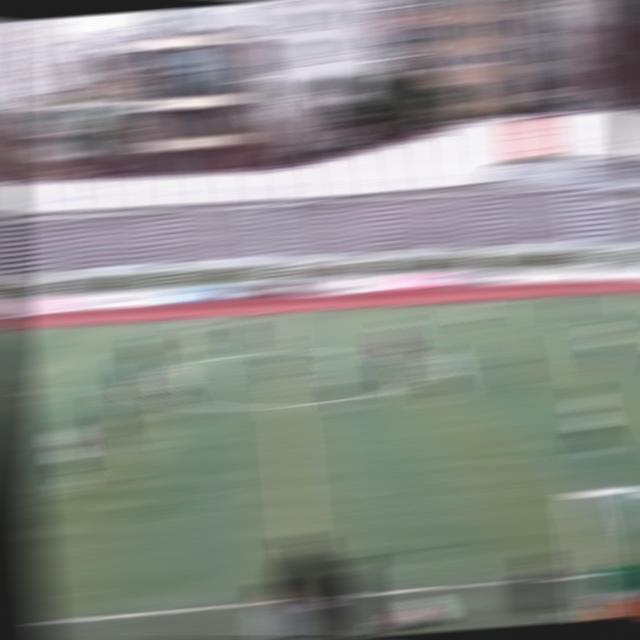halfcircle_bottom: (274, 398, 301, 415)
midline_top_intersection: (265, 309, 290, 321)
